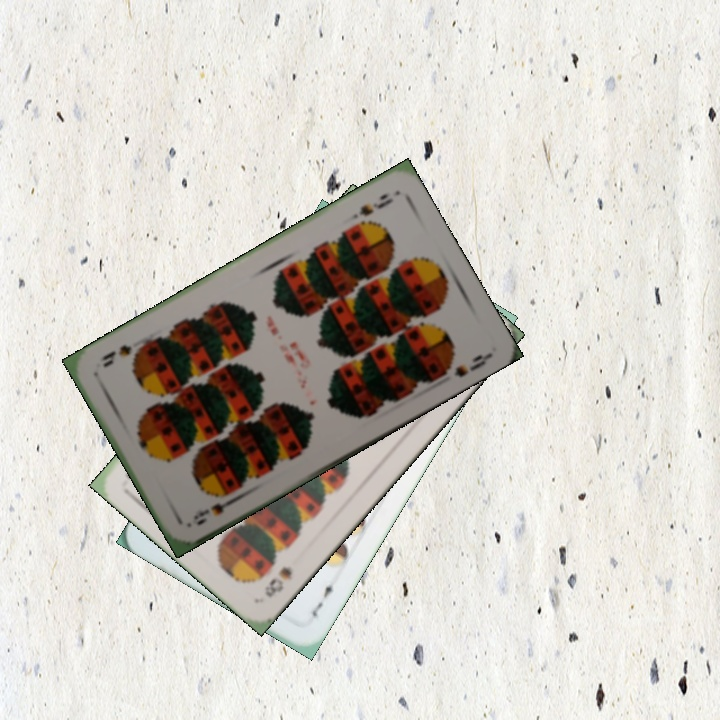E7: (307, 576, 340, 620)
S8: (260, 562, 295, 600)
S9: (189, 492, 240, 528), (355, 189, 396, 219)
